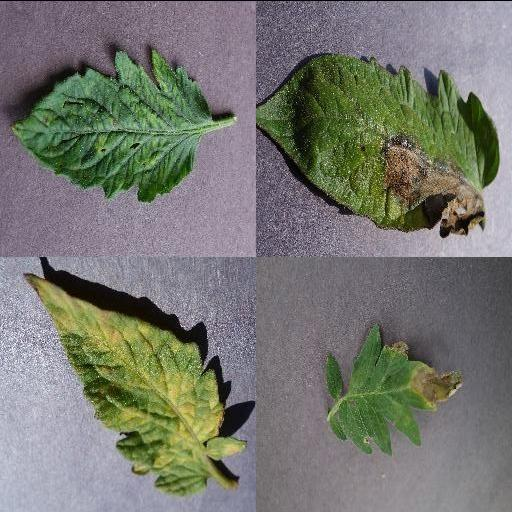Late Blight: (256, 51, 500, 238), (324, 323, 466, 455)
Leaf Mold: (21, 273, 249, 494)
Mosaic Virus: (8, 43, 210, 200)
